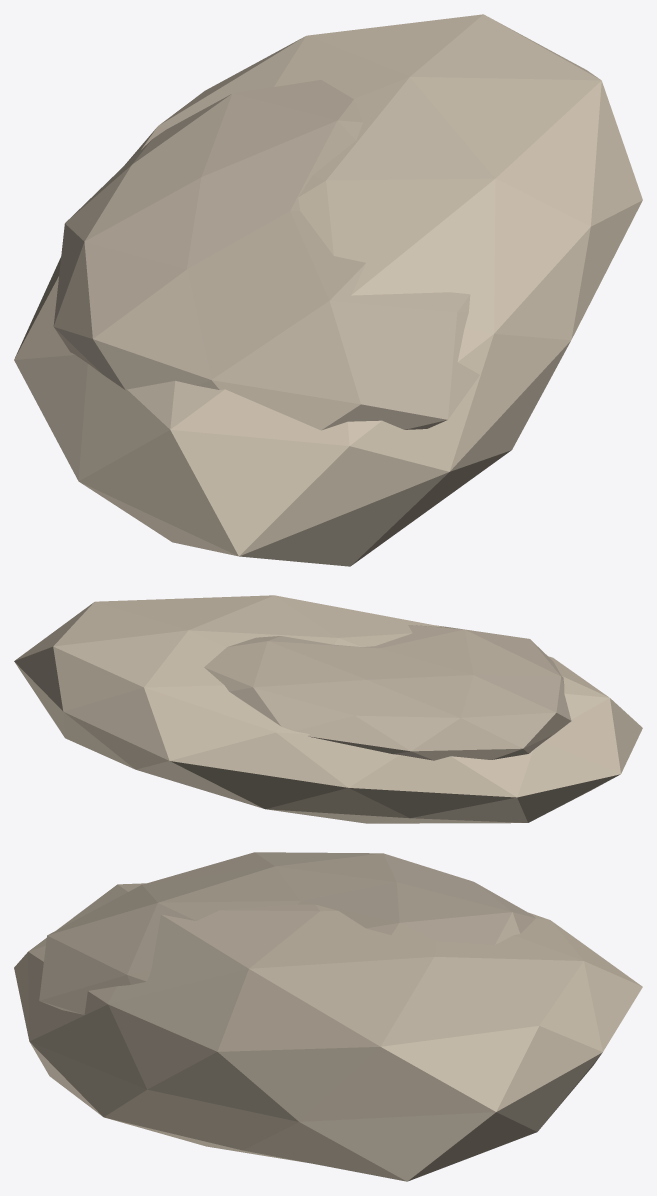
File: campo_rock_slate_9.glb
3 renders of one model, top to bottom at view 1: azimuth 30°, elevation 25°; view 2: azimuth 150°, elevation 25°; view 3: azimuth 270°, elevation 25°, orthographic. The views are drawn at different scales.
Visible parts, largest first — view 1: campo_rock_slate_9.glb; view 2: campo_rock_slate_9.glb; view 3: campo_rock_slate_9.glb.
Part boxes in pixels (x1,y1,x2,y2): campo_rock_slate_9.glb: [14, 14, 642, 566]; campo_rock_slate_9.glb: [14, 595, 642, 823]; campo_rock_slate_9.glb: [14, 852, 642, 1181].
Bounding box in the file's own units: 2.35 × 0.8803 × 2.1.
